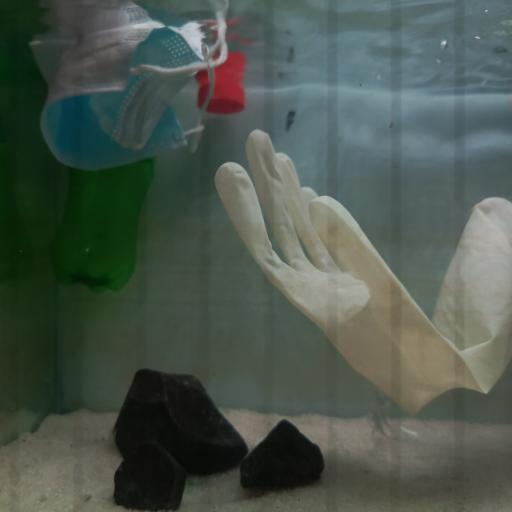bottle_cap: (193, 63, 246, 120)
glove: (214, 129, 512, 419)
mask: (31, 12, 230, 178)
plastic_bottle: (46, 157, 156, 296)
